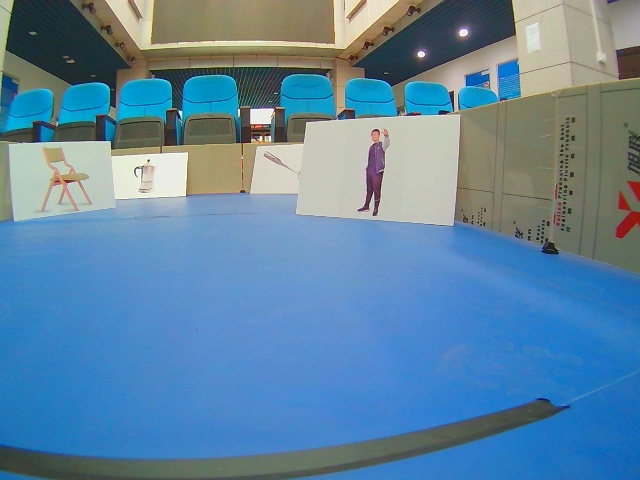dish: (112, 154, 189, 200)
person: (295, 115, 462, 227)
table: (10, 142, 115, 222)
